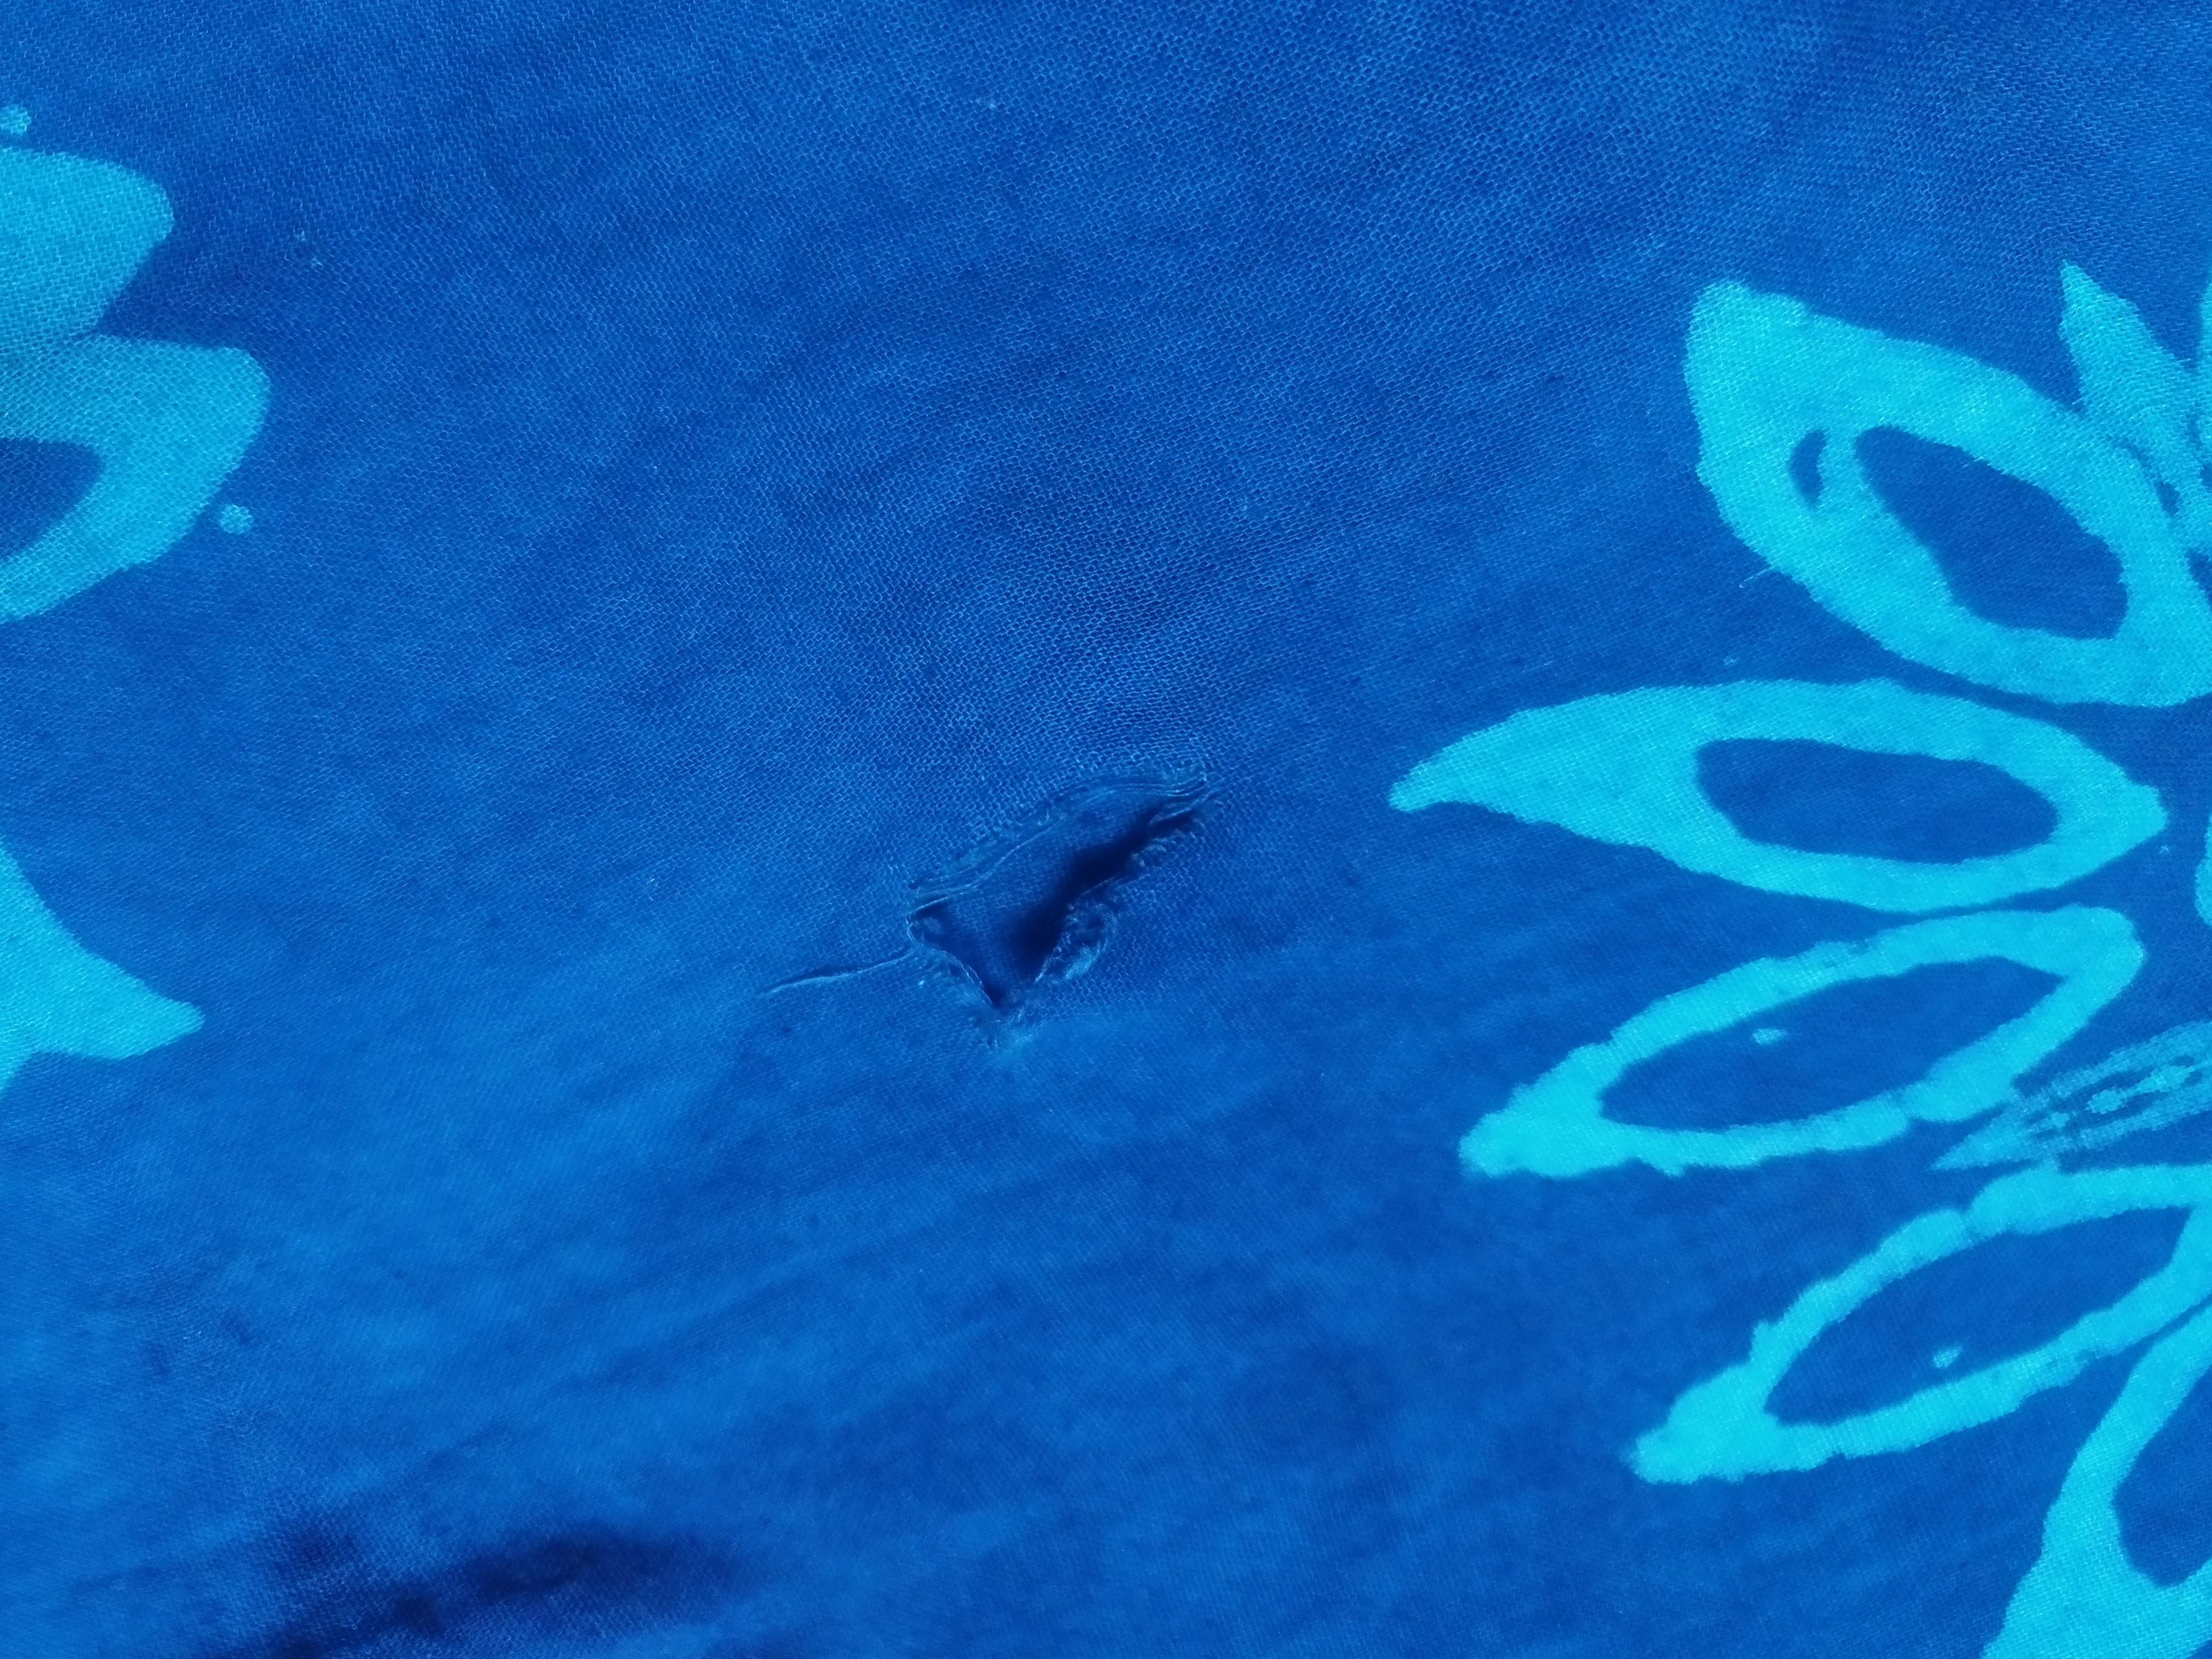hole: (895, 756, 1233, 1049)
